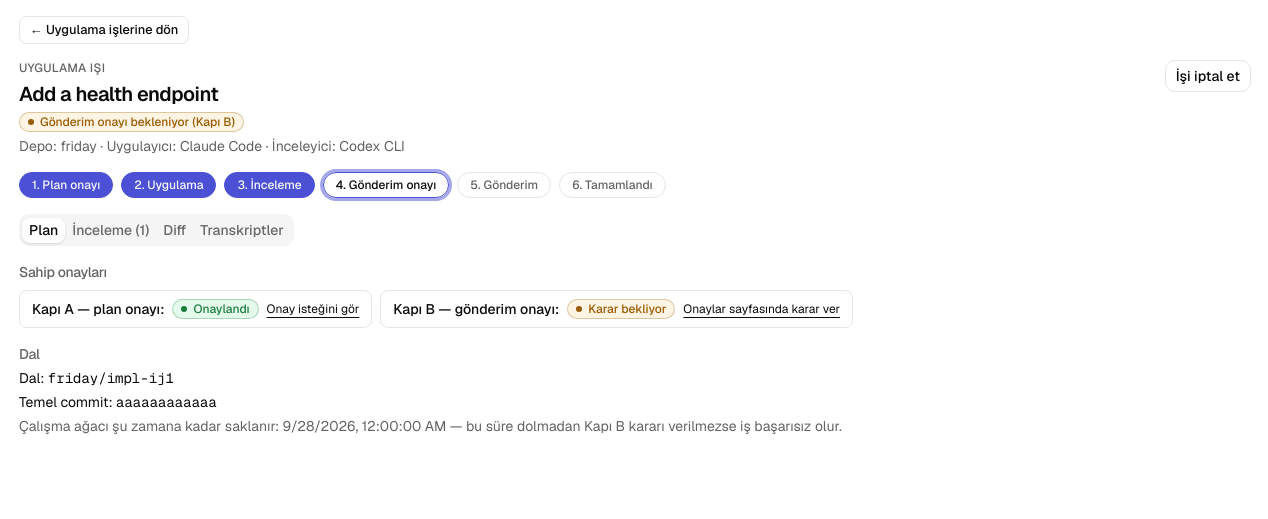
Test: ImplementationJobDetail › pairs each transcript disclosure with the region it controls
The image size is (1268, 519).
Click the tab "Transkriptler" at [242, 230], box [193, 218, 291, 242]
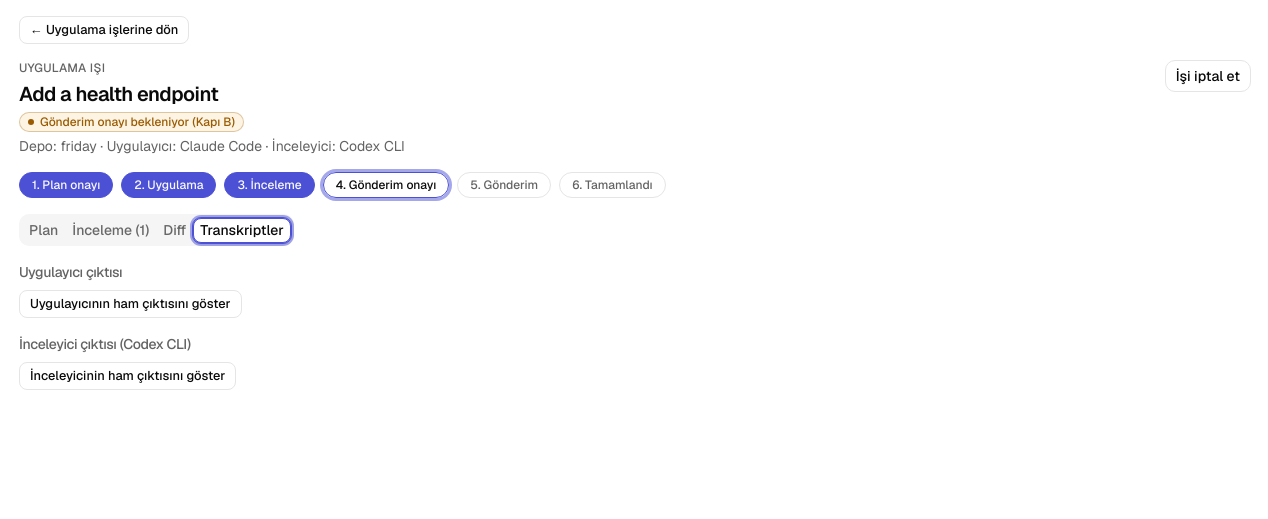
Click the button "Uygulayıcının ham çıktısını göster" at [130, 304], box [19, 290, 242, 318]
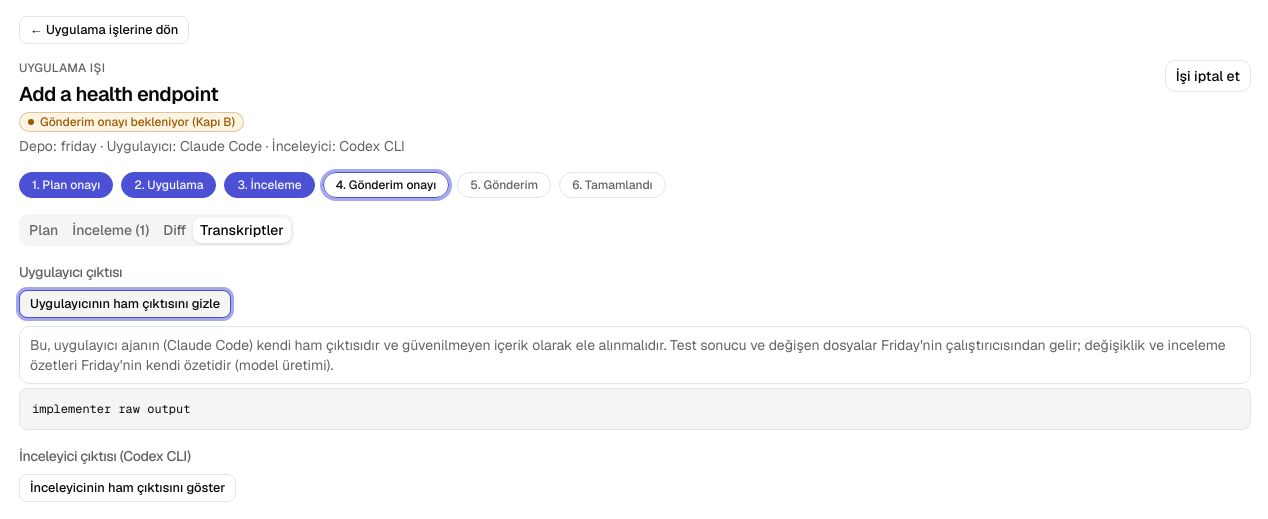
Now the button named "Uygulayıcının ham çıktısını göster" is expanded, box [19, 290, 231, 318]
